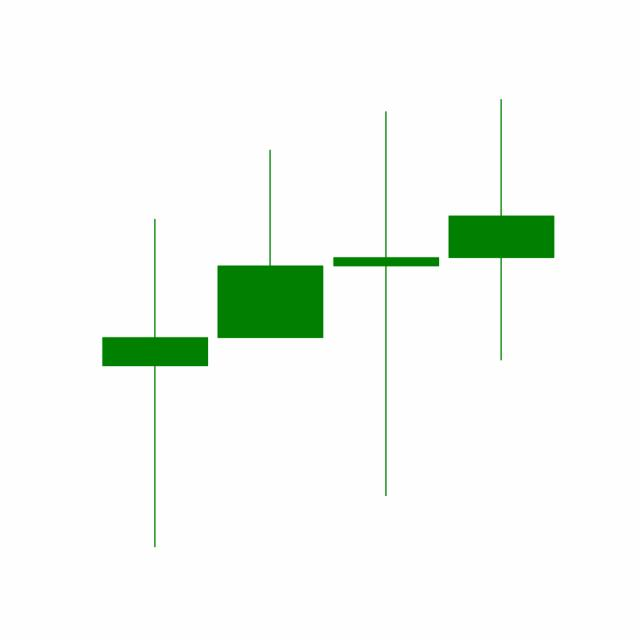Spinning Top: (328, 106, 444, 500)
